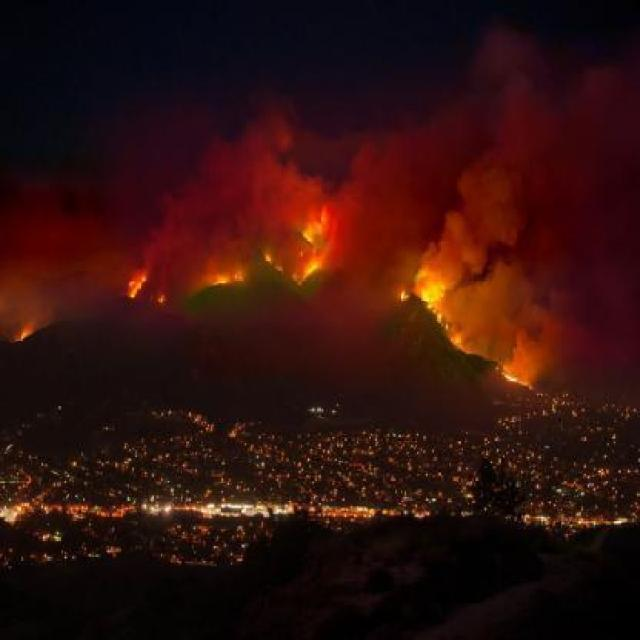Fire: (264, 195, 338, 288), (413, 260, 469, 354), (123, 263, 244, 300), (502, 333, 538, 387), (14, 320, 38, 342), (397, 286, 412, 302)
